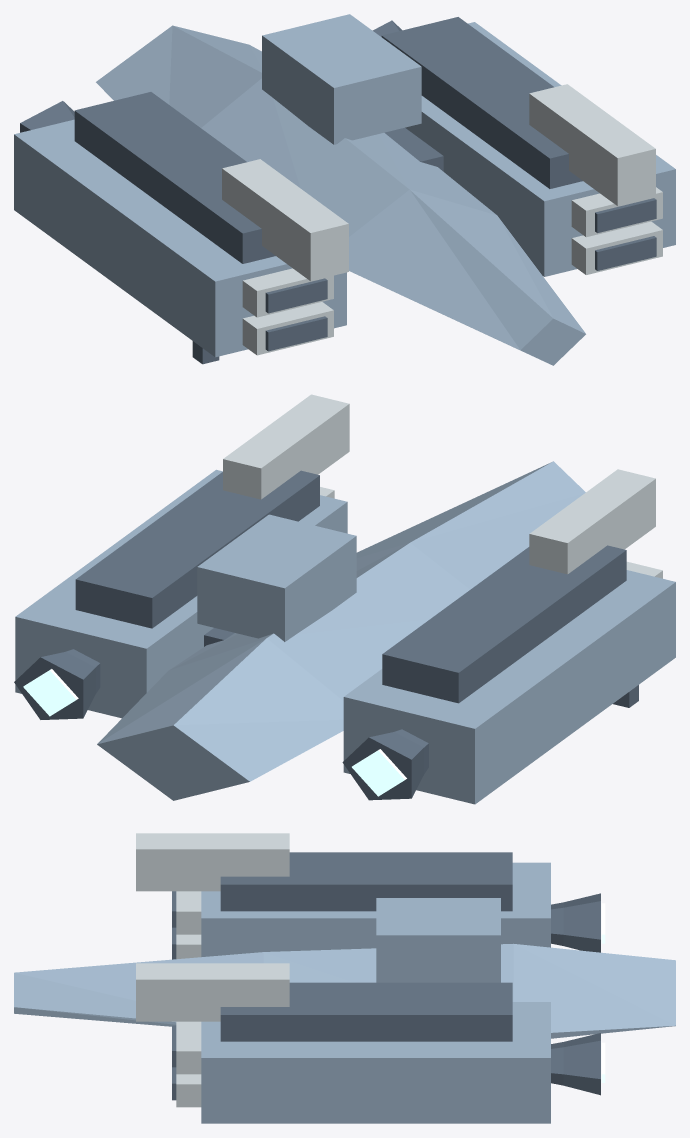
The picture shows the model from 3 angles, top to bottom: view 1: azimuth 30°, elevation 25°; view 2: azimuth 150°, elevation 25°; view 3: azimuth 270°, elevation 25°; orthographic projection. The views are drawn at different scales.
Size of the model in its own units: 12.02 by 4.25 by 17.22.
